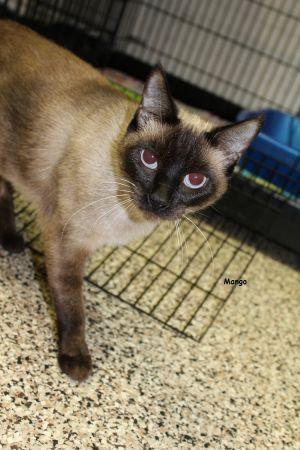siamese: (101, 53, 268, 239)
